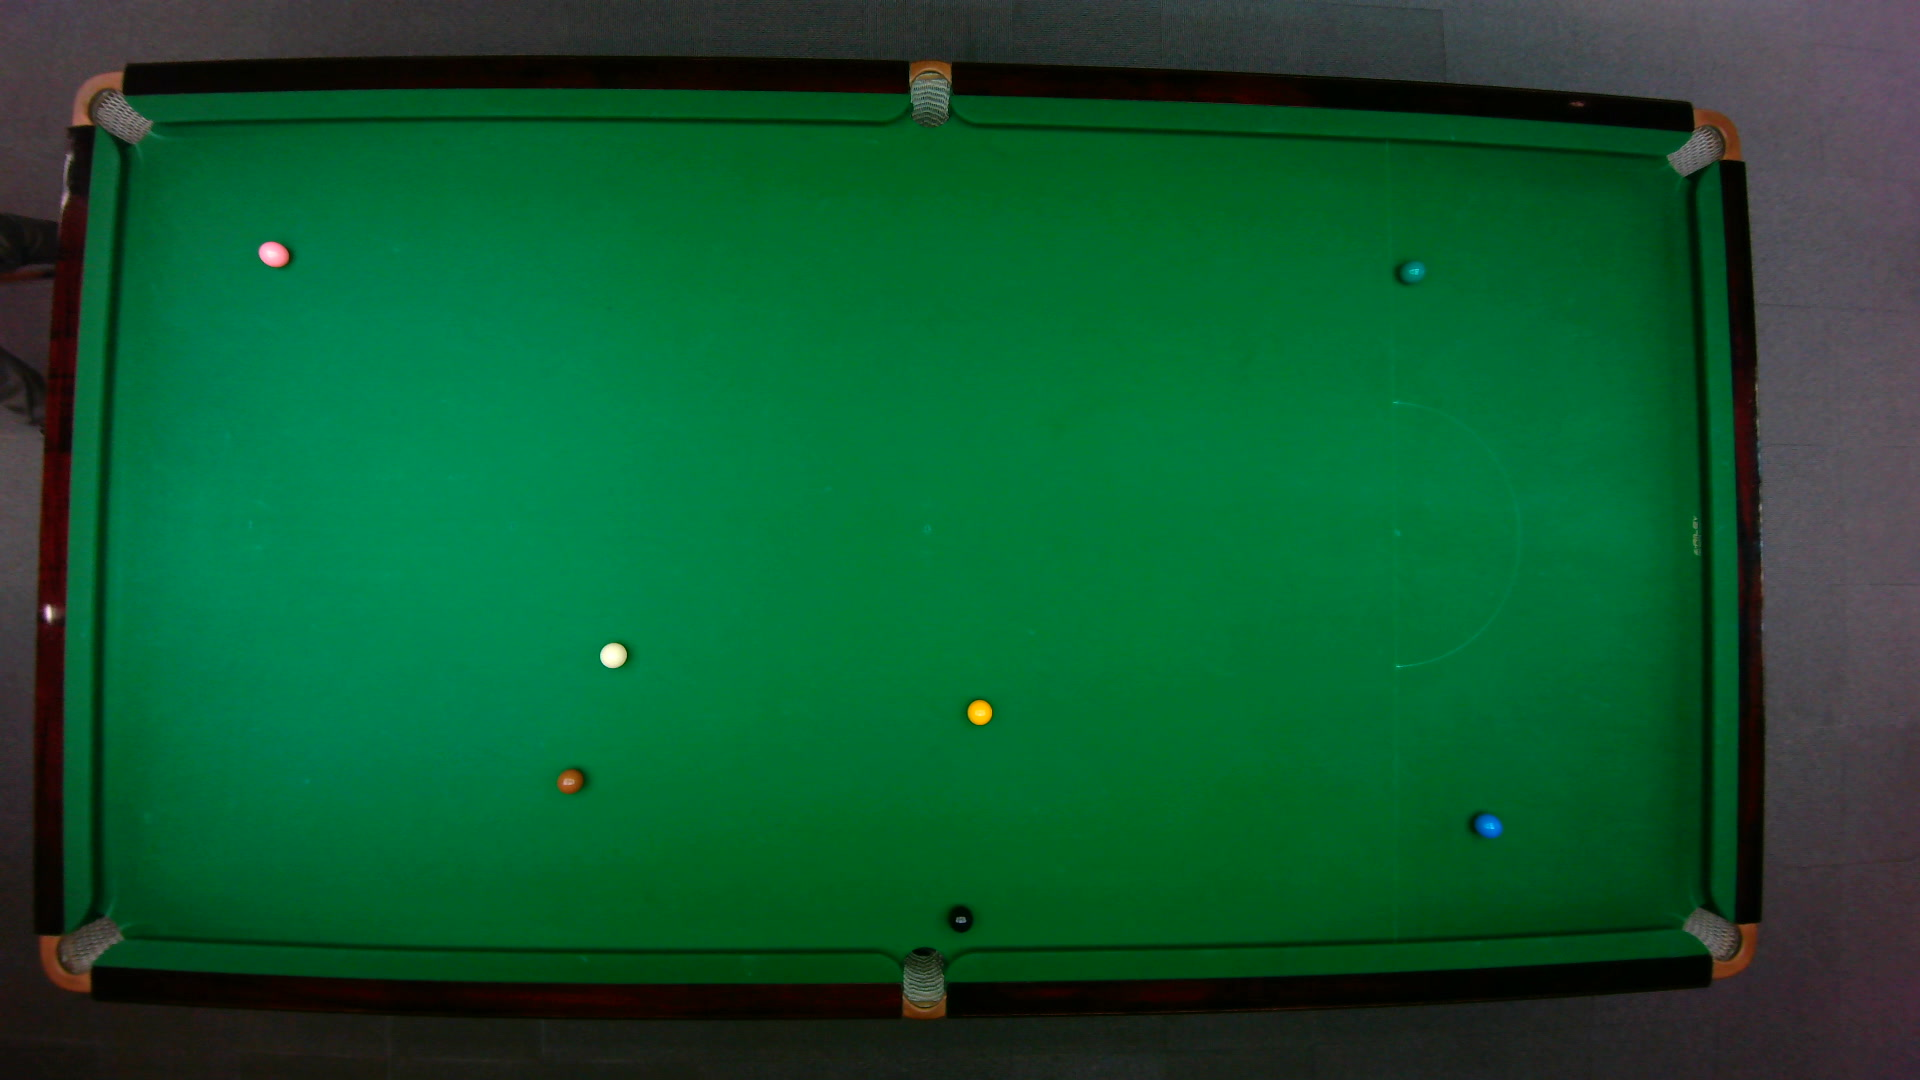bag: (37, 913, 125, 992), (69, 69, 153, 145), (1677, 905, 1756, 978), (1663, 107, 1741, 177), (901, 944, 944, 1021), (909, 57, 949, 128)
black: (947, 905, 973, 932)
blue: (1472, 812, 1503, 837)
brown: (556, 767, 584, 794)
green: (1396, 258, 1425, 284)
pink: (256, 237, 290, 268)
white: (597, 640, 629, 669)
yellow: (965, 698, 993, 727)
zone: (1390, 400, 1520, 669)
